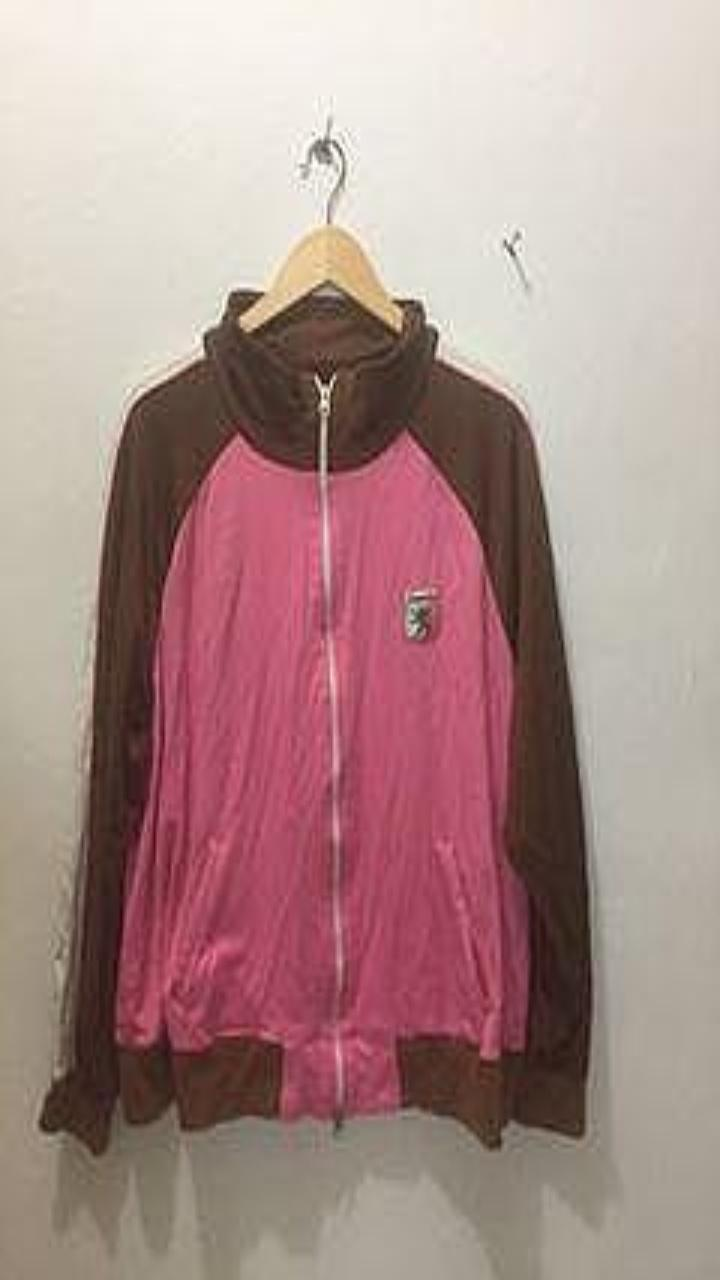Sports_Jacket: (39, 288, 591, 1154)
